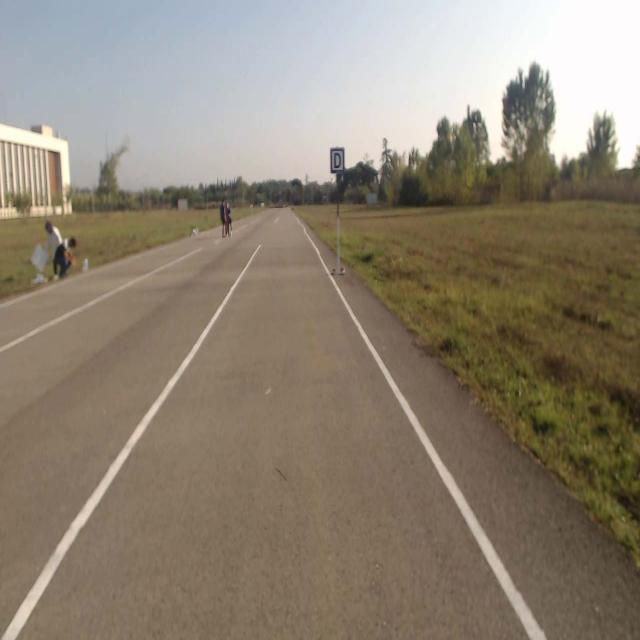durak: (330, 148, 344, 174)
